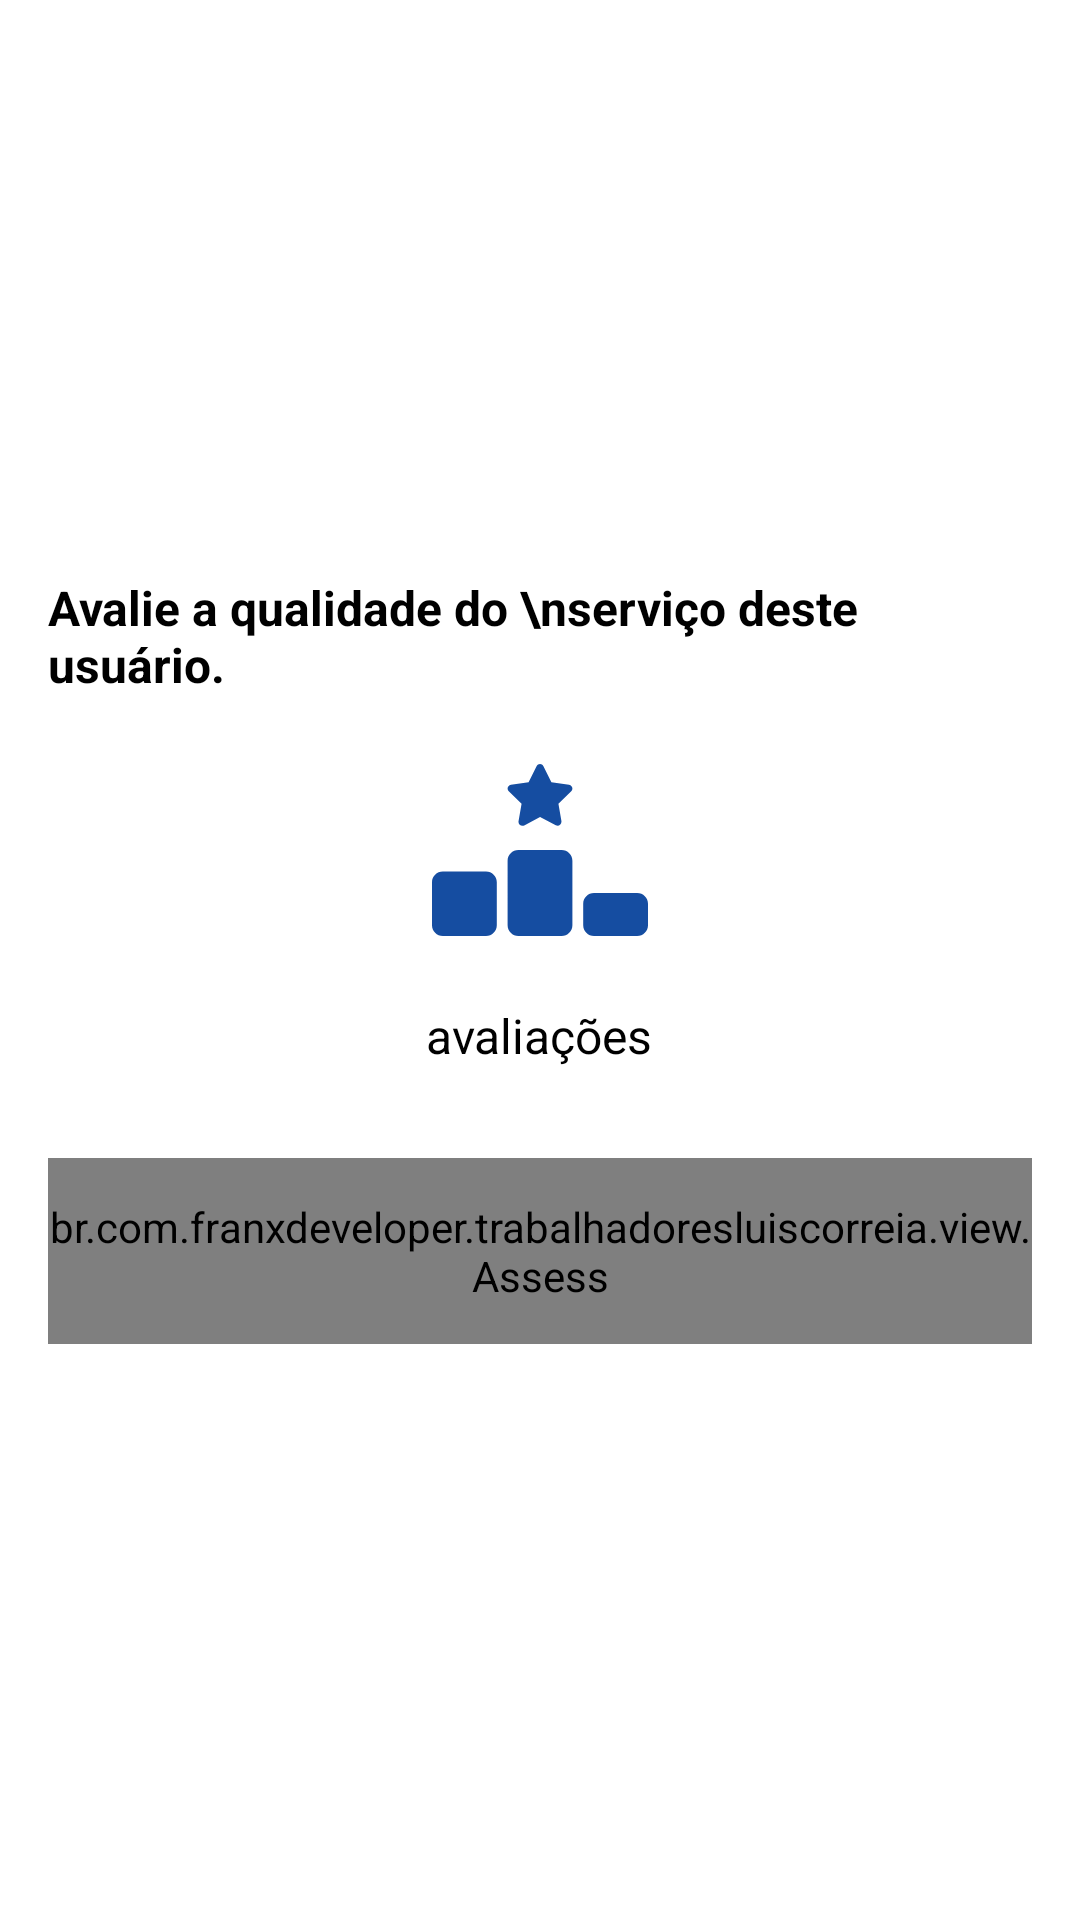

Icons on this 1080w x 1920h Android screen, each with the point to tap as [x,y]:
ranking: [540,850]
